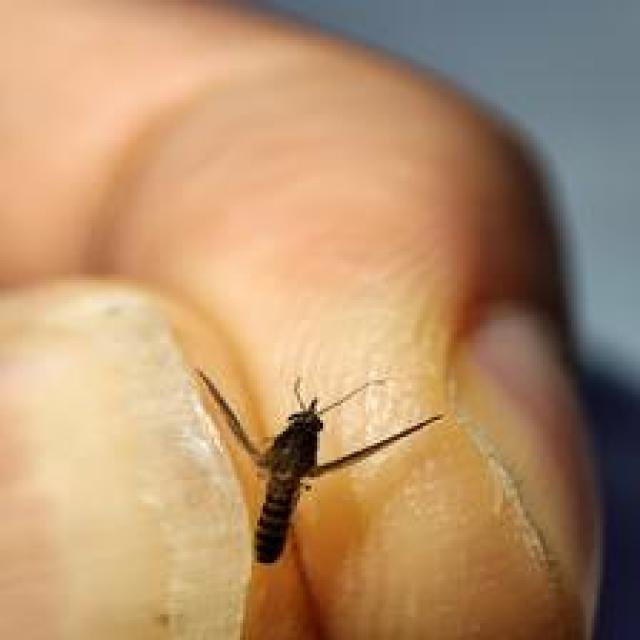Culex: (190, 366, 444, 566)
